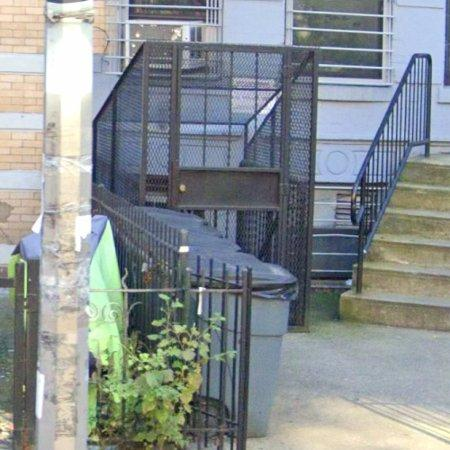stairs: (342, 158, 450, 332)
